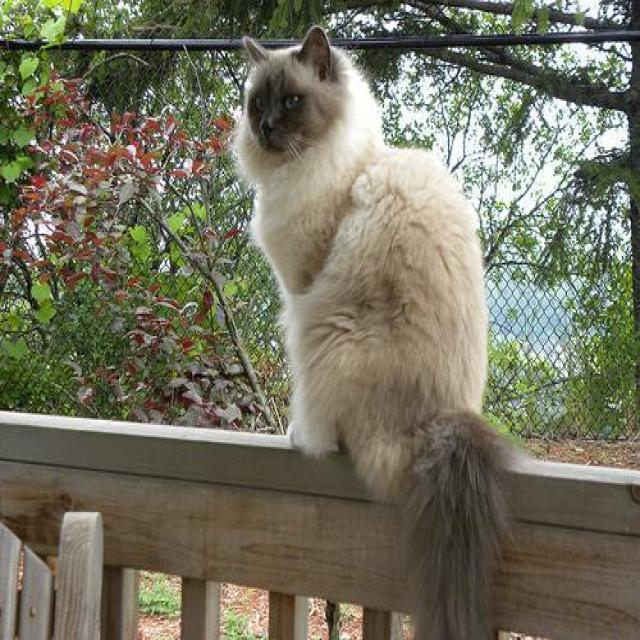cat: (236, 24, 500, 640)
